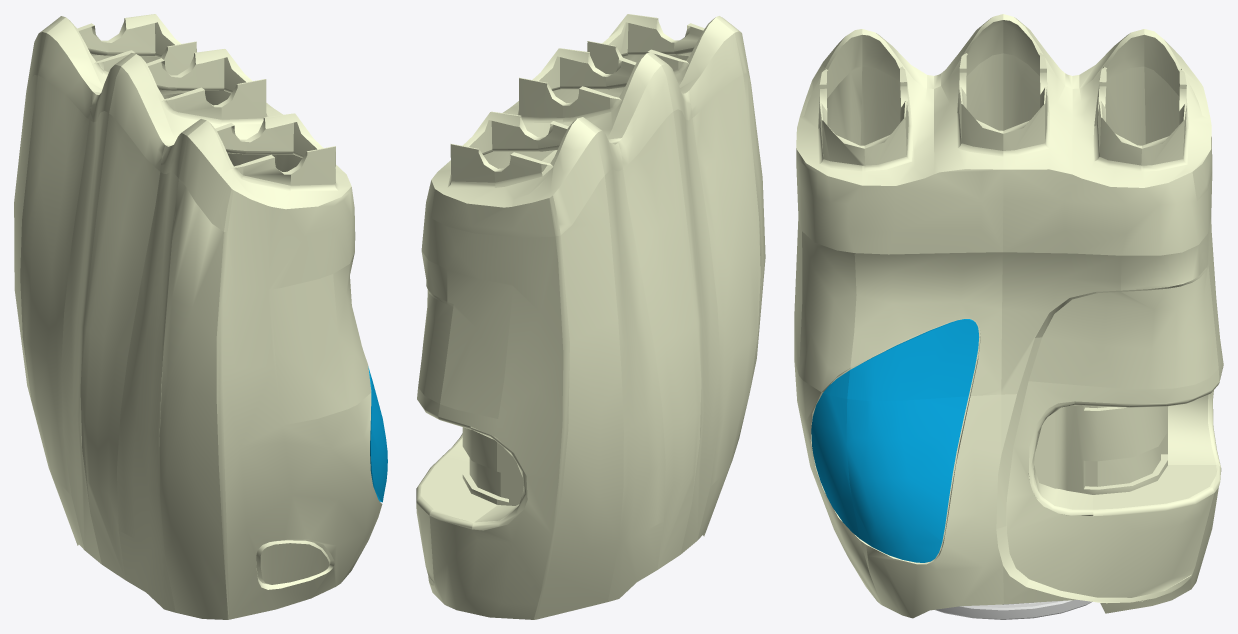
File: right_palm.dae
3 renders of one model, left to right at view 1: azimuth 30°, elevation 25°; view 2: azimuth 150°, elevation 25°; view 3: azimuth 270°, elevation 25°, orthographic.
Visible parts, largest first — view 1: ShapeIndexedFaceS_001; view 2: ShapeIndexedFaceS_001; view 3: ShapeIndexedFaceS_001.
Part boxes in pixels (x1,y1,x2,y2): ShapeIndexedFaceS_001: [14, 14, 387, 619]; ShapeIndexedFaceS_001: [416, 14, 765, 619]; ShapeIndexedFaceS_001: [794, 14, 1223, 619].
Size of the model in its own units: 0.0817 by 0.1232 by 0.1664.
